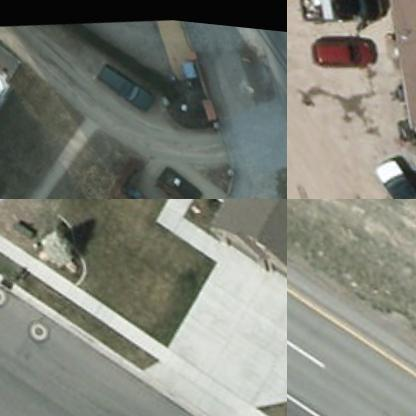car: (305, 13, 377, 68), (96, 53, 152, 108)
pickup: (292, 0, 384, 27), (368, 148, 415, 198)
